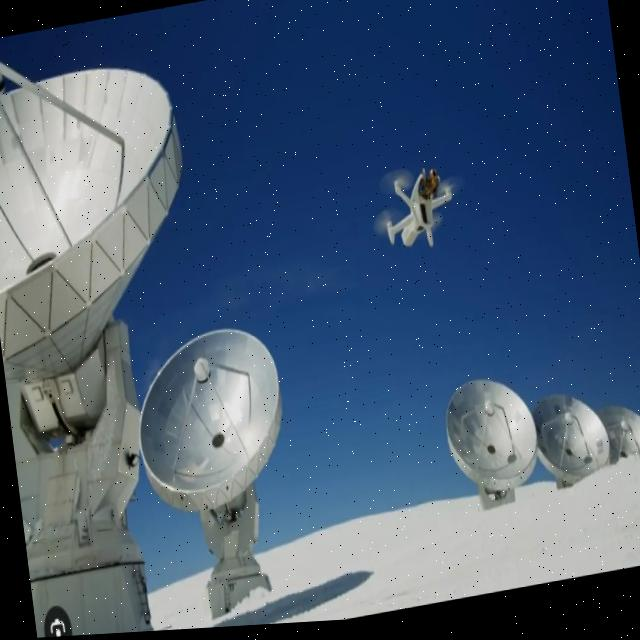drone: (363, 158, 472, 264)
